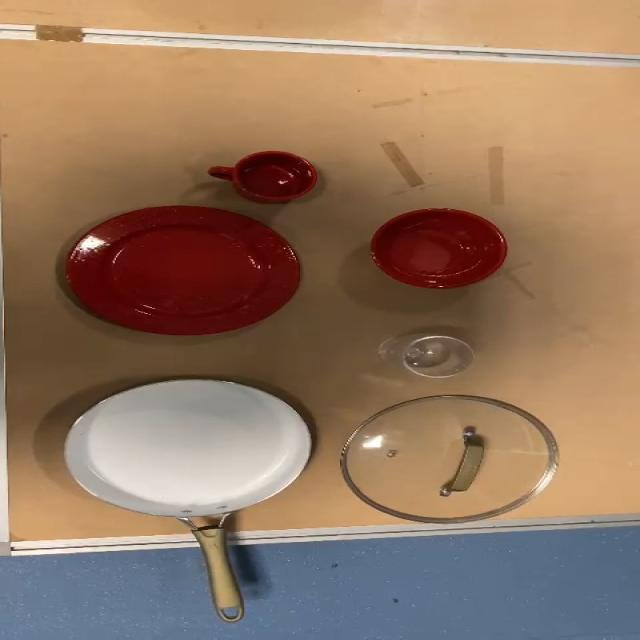Bowl: (368, 207, 504, 295)
Glass: (385, 334, 477, 380)
Plate: (61, 200, 306, 336)
cup: (210, 146, 323, 207)
pot: (58, 369, 320, 627)
